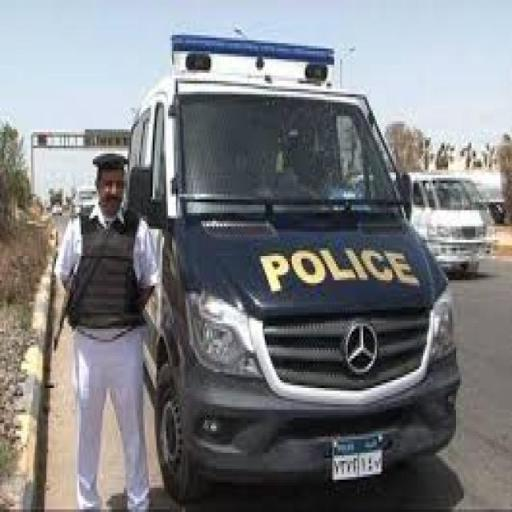Ambulance: (158, 26, 465, 489)
